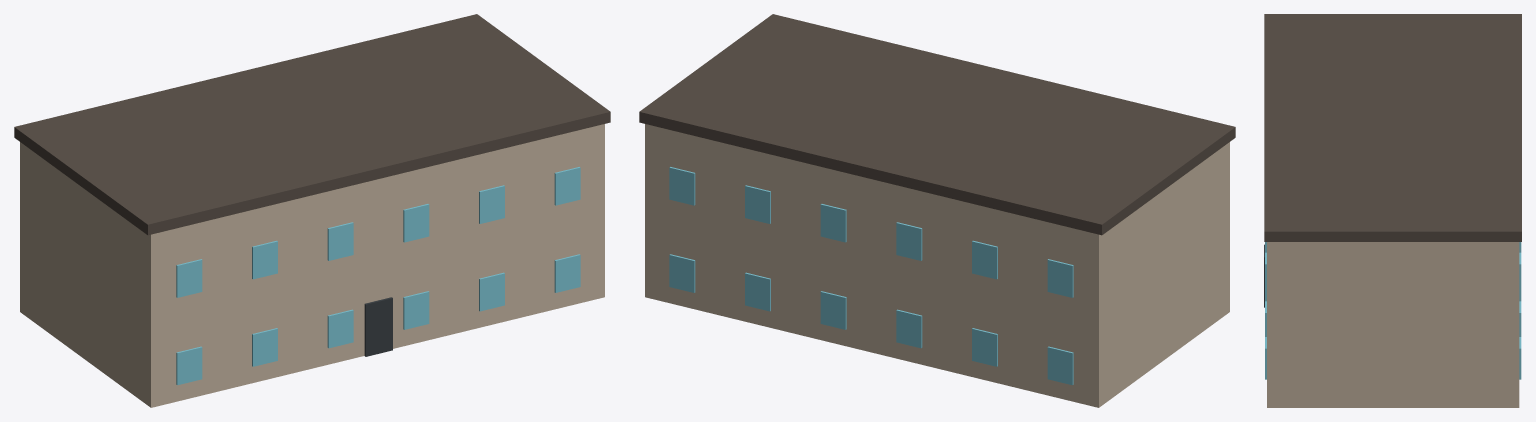
File: shop_block_01.glb
3 renders of one model, left to right at view 1: azimuth 30°, elevation 25°; view 2: azimuth 150°, elevation 25°; view 3: azimuth 270°, elevation 25°, orthographic. The views are drawn at different scales.
Parts seen in each view (by area): view 1: body, roof, win (×12), door; view 2: body, roof, win (×12); view 3: roof, body.
Part boxes in pixels (x1,y1,x2,y2): body: (20,124,604,407); roof: (14,14,610,235); win (×12): (176,167,580,385); door: (364,297,392,356); body: (645,124,1229,407); roof: (639,14,1235,235); win (×12): (669,167,1073,385); roof: (1264,14,1521,241); body: (1267,242,1519,407).
Bounding box in the file's own units: 20.4 × 7.81 × 10.21.
